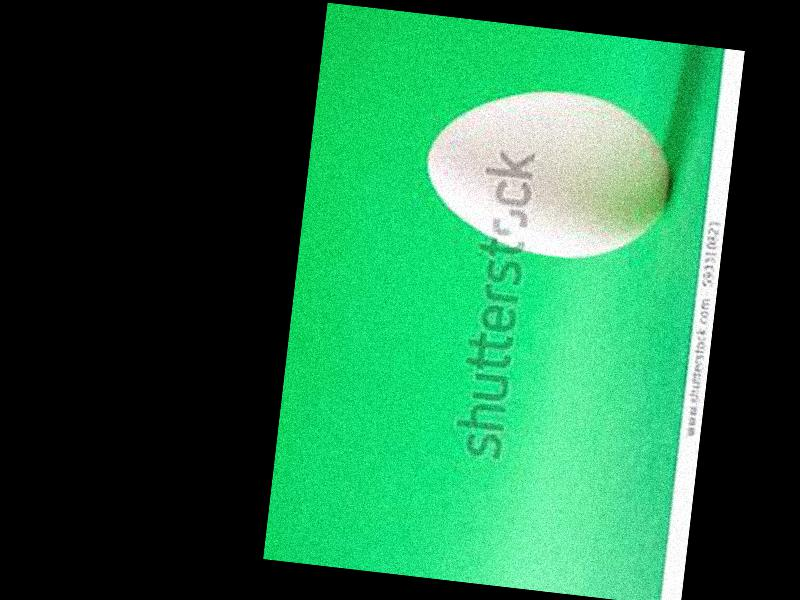Eggs: (419, 76, 682, 268)
